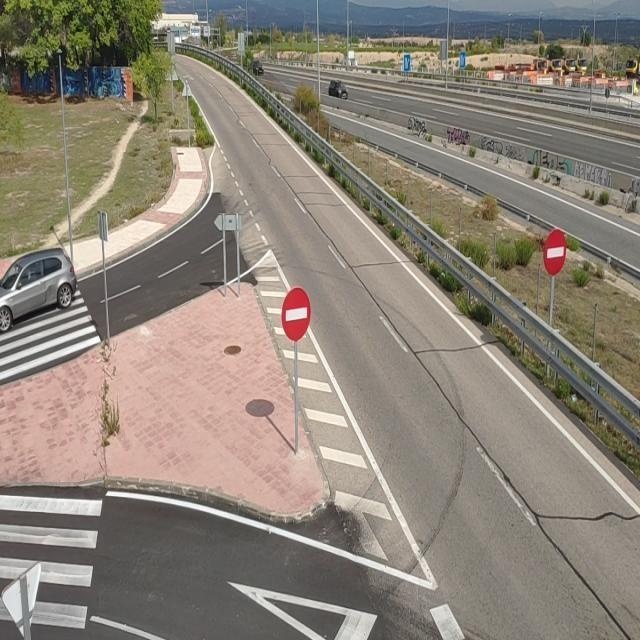Car: (0, 247, 77, 335), (328, 80, 349, 99)
